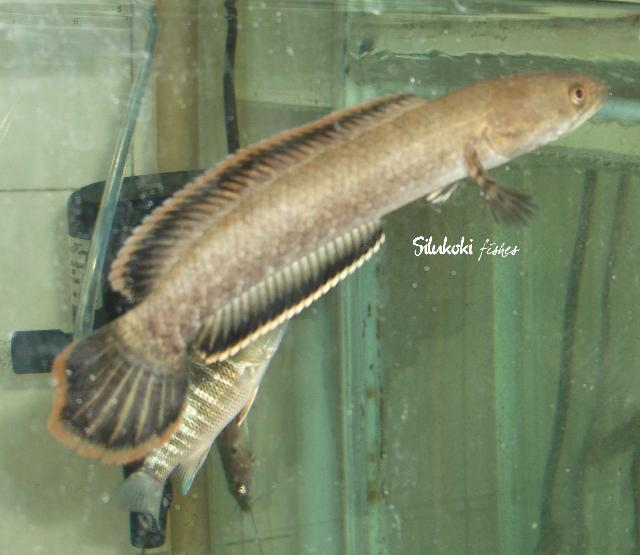Mulut: (564, 63, 622, 145)
Sirip Anal: (197, 210, 393, 368)
Sirip Dada: (453, 150, 551, 242), (418, 174, 468, 218)
Sirip Ekor: (46, 322, 192, 464)
Sirip Punggung: (94, 75, 428, 313)
